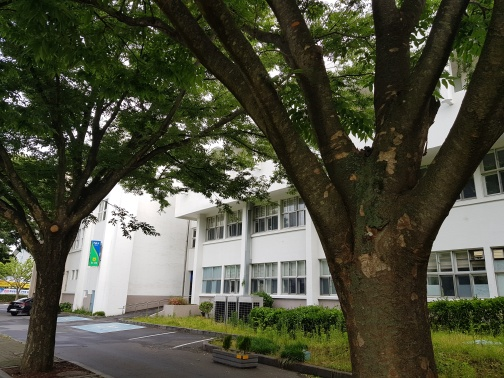Main Building of University: (47, 164, 504, 313), (88, 237, 105, 270)
